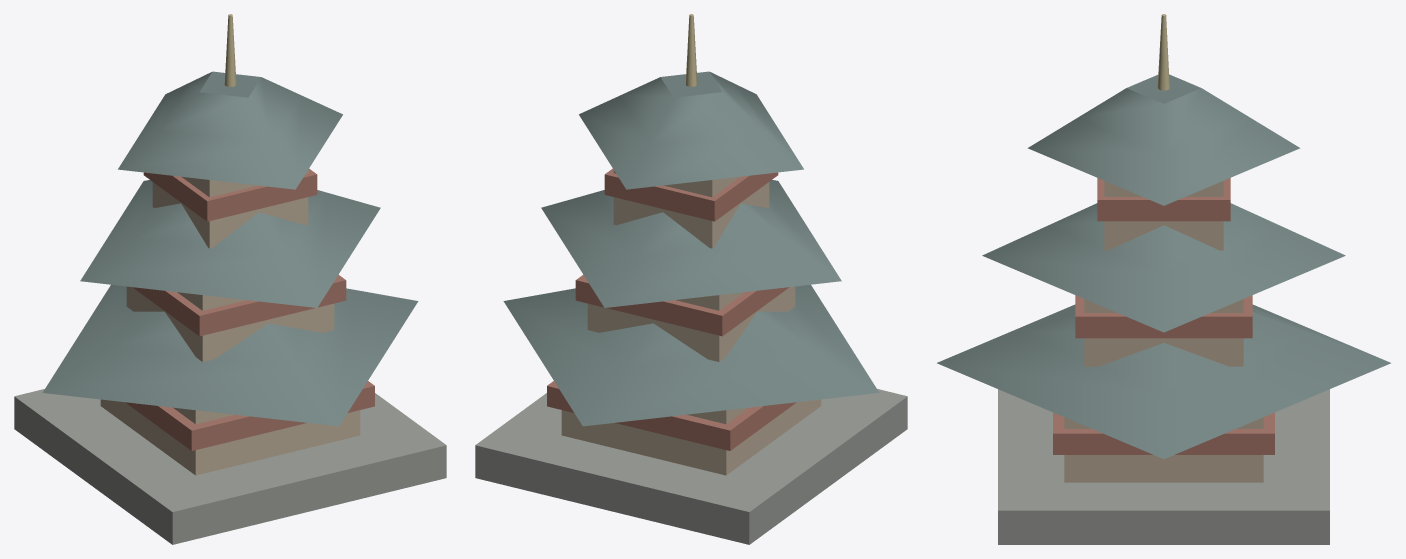
3 views of the same model, side by side, from view 1: azimuth 30°, elevation 25°; view 2: azimuth 150°, elevation 25°; view 3: azimuth 270°, elevation 25° (orthographic). The views are drawn at different scales.
Visible parts, largest first — view 1: Visual; view 2: Visual; view 3: Visual.
Boxes of the visible parts, x1=… form: Visual: x1=14, y1=14, x2=446, y2=544; Visual: x1=475, y1=14, x2=907, y2=544; Visual: x1=937, y1=14, x2=1390, y2=544.
Bounding box in the file's own units: 9.6 × 10.7 × 9.6.
